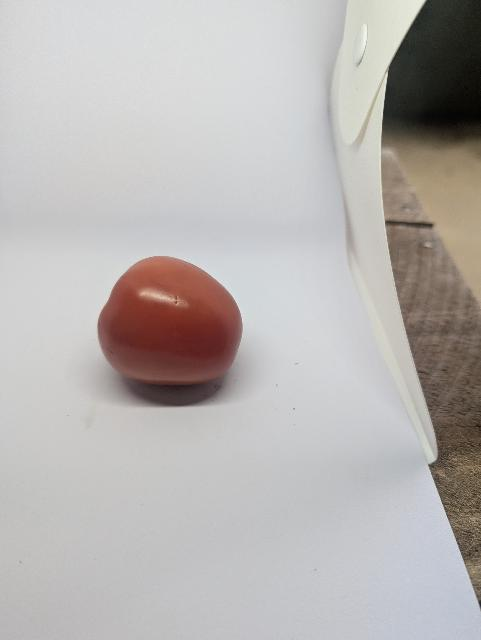red: (94, 241, 246, 409)
